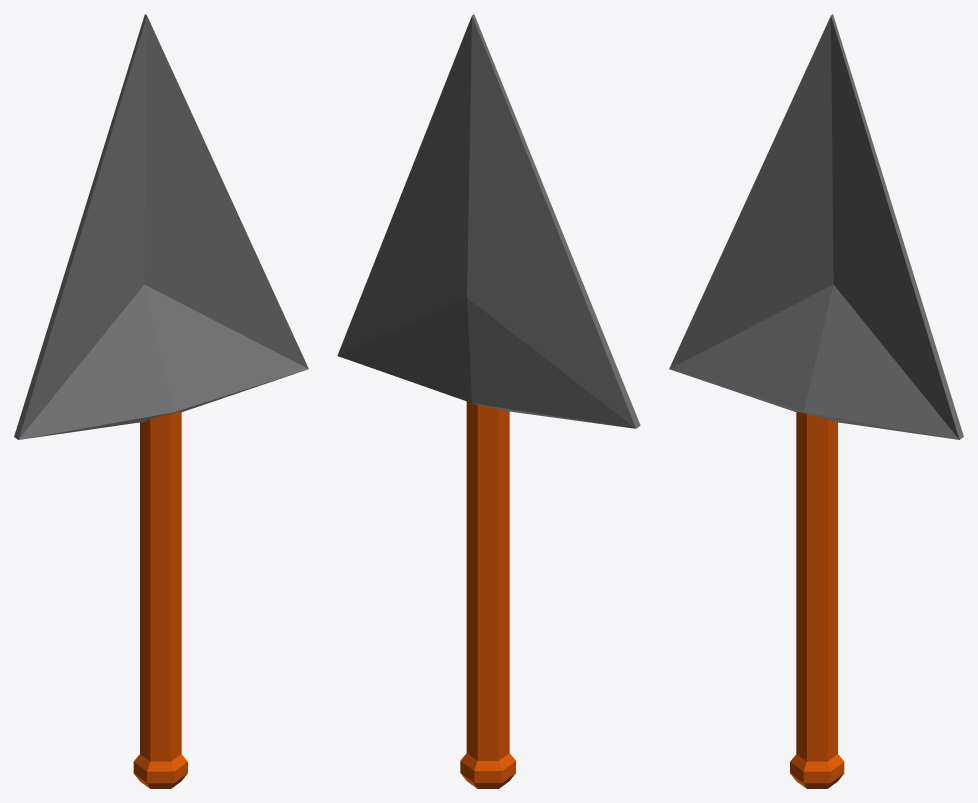
The model's file is LPHandShovel.fbx.
The picture shows the model from 3 angles, left to right: view 1: azimuth 30°, elevation 25°; view 2: azimuth 150°, elevation 25°; view 3: azimuth 330°, elevation 25°; orthographic projection. The views are drawn at different scales.
Parts seen in each view (by area): view 1: Plane, Cylinder; view 2: Plane, Cylinder; view 3: Plane, Cylinder.
Part boxes in pixels (bbox=[...]): Plane: bbox=[14, 14, 308, 439]; Cylinder: bbox=[133, 411, 187, 788]; Plane: bbox=[337, 14, 640, 428]; Cylinder: bbox=[460, 401, 515, 788]; Plane: bbox=[669, 14, 963, 439]; Cylinder: bbox=[790, 411, 844, 788].
Bounding box in the file's own units: 161 × 32.82 × 401.
